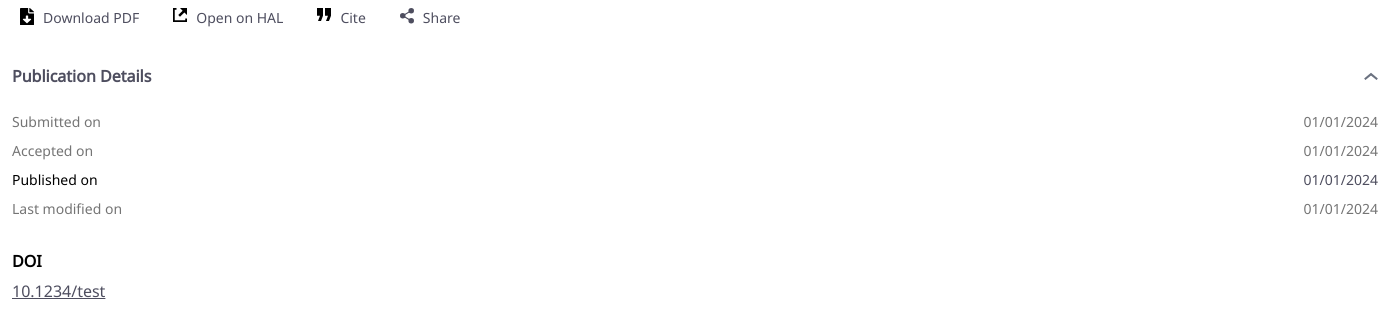
ArticleDetailsSidebar › Hover-based dropdown toggling › shows and hides the citations dropdown on mouse enter/leave
Hover over the button "Cite" at (342,18), box [317,8,366,27]
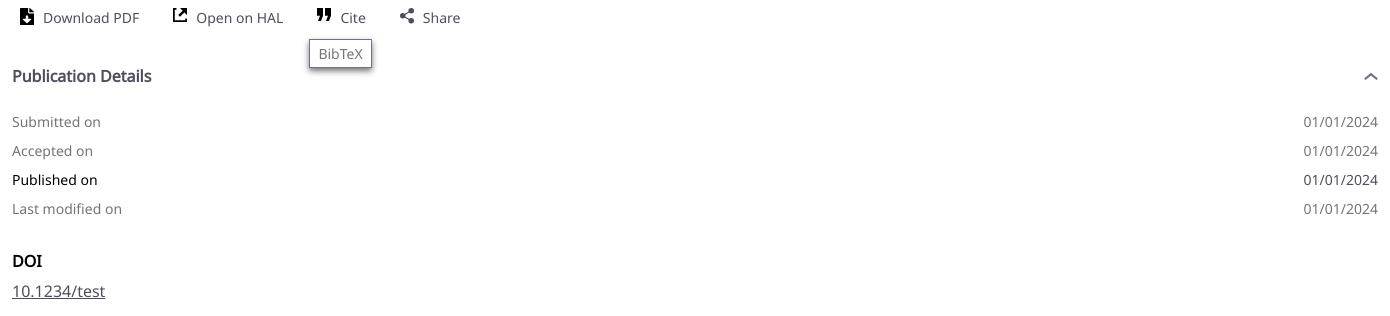
Check: the element with class "articleDetailsSidebar-links-link-modal-content-displayed" is shown, box [309,39,372,68]
Move the pointer off the button "Cite BibTeX", box [317,8,366,27]
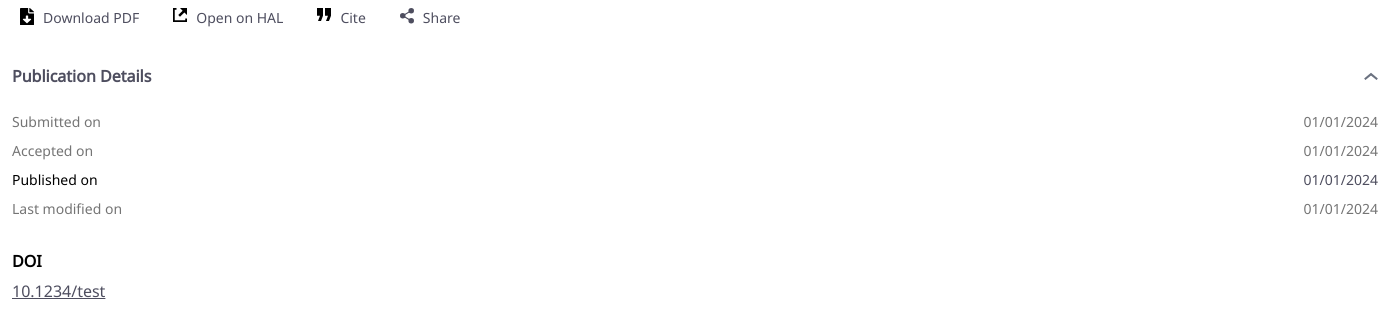
Check: the element with class "articleDetailsSidebar-links-link-modal-content-displayed" is gone
